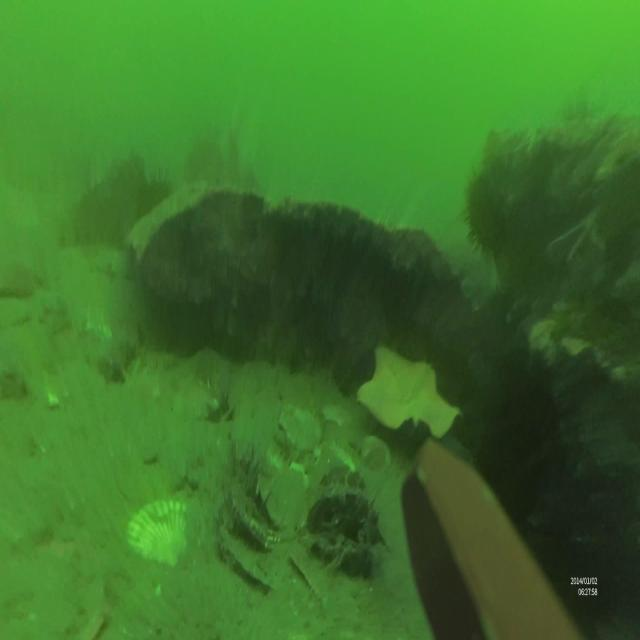echinus: (462, 172, 510, 246)
scallop: (128, 501, 192, 568)
